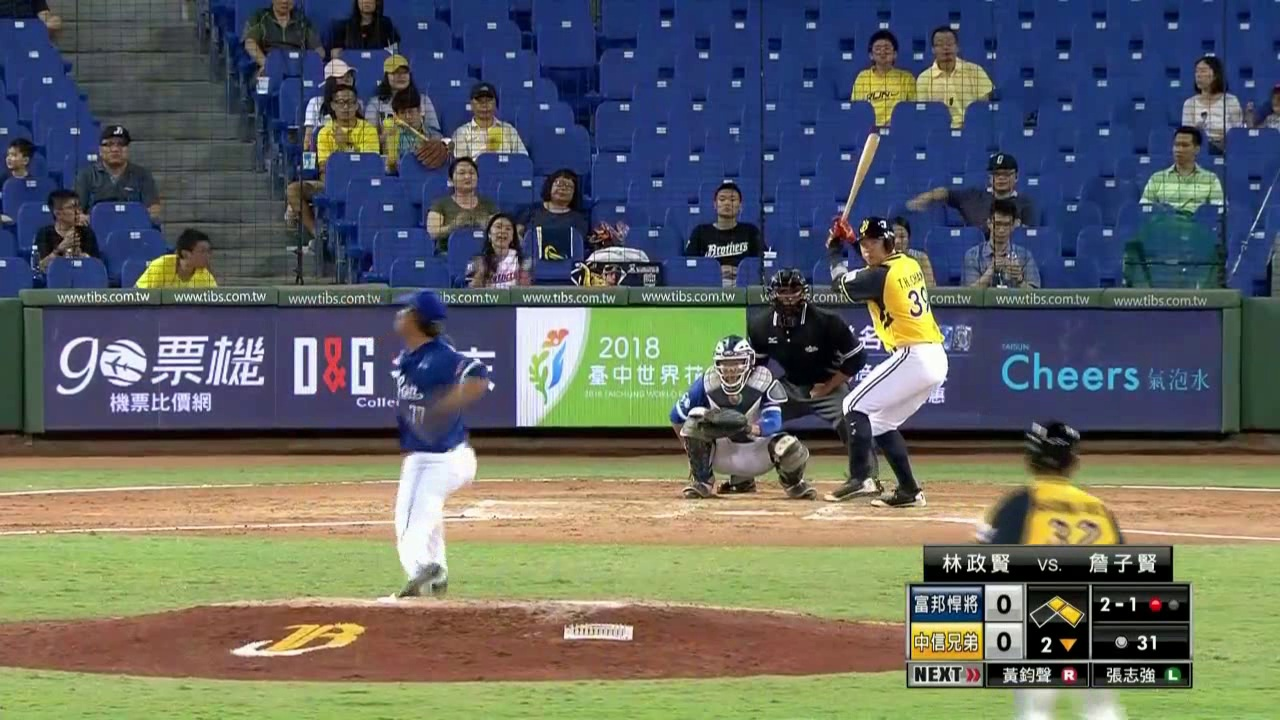base: (1026, 586, 1086, 628)
bat: (843, 130, 884, 218)
out: (1144, 587, 1186, 621)
score1: (988, 587, 1020, 618)
score2: (986, 626, 1021, 658)
session: (1027, 627, 1087, 658)
strikeball: (1093, 588, 1142, 624)
total: (1093, 628, 1186, 657)
